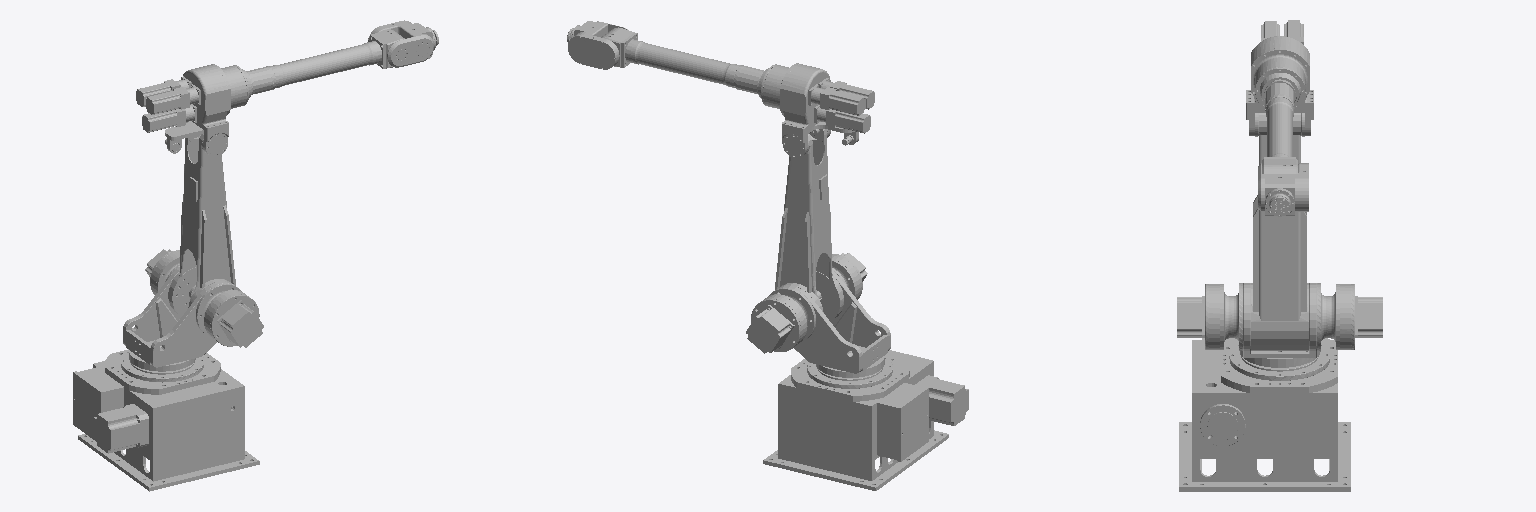
robot.urdf — abb:
<?xml version="1.0"?>
<robot name="abb">
        <link name="link1">
        <visual>
            <origin xyz="-0.047 0.0158 -0.096" rpy="-1.5707963 0 -1.5707963" />
            <geometry>
                <mesh filename="package://abb_description/meshes/link1.STL" />
            </geometry>
            <material name="gray">
                <color rgba="0.75 0.75 0.75 1"/>
            </material>
        </visual>
        <collision>
            <origin xyz="-0.047 0.0158 -0.096" rpy="-1.5707963 0 -1.5707963" />
            <geometry>
                <mesh filename="package://abb_description/meshes/link1.STL" />
            </geometry>
        </collision>
    </link>

    <joint name="joint1" type="revolute">
        <origin xyz="0 0 0.365" rpy="0 0 0"/>
        <axis xyz="0 0 1"/>
        <limit lower="-3.1415926" upper="3.1415926" effort="100" velocity="0.4" />
        <parent link="link1"/>
        <child link="link2"/>
    </joint>


    <link name="link2">
        <visual>
            <origin xyz="0 0 -0.028" rpy="0 0 -1.5707963" />
            <geometry>
                <mesh filename="package://abb_description/meshes/link2.STL" />
            </geometry>
            <material name="gray">
                <color rgba="0.75 0.75 0.75 1"/>
            </material>
        </visual>
        <collision>
            <origin xyz="0 0 -0.028" rpy="0 0 -1.5707963" />
            <geometry>
                <mesh filename="package://abb_description/meshes/link2.STL" />
            </geometry>
        </collision>
    </link>

    <joint name="joint2" type="revolute">
        <origin xyz="0.181 0 0.201" rpy="0 0 0"/>
        <axis xyz="0 1 0"/>
        <limit lower="-1.5707963" upper="1.5707963" effort="100" velocity="0.4" />
        <parent link="link2"/>
        <child link="link3"/>
    </joint>

    <link name="link3">
        <visual>
            <origin xyz="0.104 0.065 -0.0136" rpy="-1.5707963 0.0355 3.1415926" />
            <geometry>
                <mesh filename="package://abb_description/meshes/link3.STL" />
            </geometry>
            <material name="gray">
                <color rgba="0.75 0.75 0.75 1"/>
            </material>
        </visual>
        <collision>
            <origin xyz="0 0 0.26" rpy="0 0 0" />
            <geometry>
                <box size="0.1 0.08 0.7"/>
                <!--<mesh filename="package://abb_description/meshes/link3.STL" />-->
            </geometry>
        </collision>
    </link>

    <joint name="joint3" type="revolute">
        <origin xyz="0 0 0.665" rpy="0 0 0"/>
        <axis xyz="0 1 0"/>
        <limit lower="-1.5707963" upper="1.5707963" effort="100" velocity="0.4" />
        <parent link="link3"/>
        <child link="link4"/>
    </joint>


    <link name="link4">
        <visual>
            <origin xyz="-0.184 -0.076 0.065" rpy="3.1415926 0 -1.5707963" />
            <geometry>
                <mesh filename="package://abb_description/meshes/link4.STL" />
            </geometry>
            <material name="gray">
                <color rgba="0.75 0.75 0.75 1"/>
            </material>
        </visual>
        <collision>
            <origin xyz="-0.184 -0.076 0.065" rpy="3.1415926 0 -1.5707963" />
            <geometry>
                <mesh filename="package://abb_description/meshes/link4.STL" />
            </geometry>
        </collision>
    </link>

    <joint name="joint4" type="revolute">
        <origin xyz="0.172 0 0.17" rpy="0 0 0"/>
        <axis xyz="1 0 0"/>
        <limit lower="-1.5707963" upper="1.5707963" effort="100" velocity="0.4" />
        <parent link="link4"/>
        <child link="link5"/>
    </joint>

    <link name="link5">
        <visual>
          <origin xyz="-0.038 0 0" rpy="0 1.5707963 0" />
            <geometry>
                <mesh filename="package://abb_description/meshes/link5.STL" />
            </geometry>
            <material name="gray">
                <color rgba="0.75 0.75 0.75 1"/>
            </material>
        </visual>
        <collision>
          <origin xyz="-0.038 0 0" rpy="0 1.5707963 0" />
            <geometry>
                <mesh filename="package://abb_description/meshes/link5.STL" />
            </geometry>
        </collision>
    </link>


    <joint name="joint5" type="revolute">
        <origin xyz="0.63 0 0" rpy="0 0 0"/>
        <axis xyz="0 1 0"/>
        <limit lower="-1.7" upper="1.7" effort="100" velocity="0.4" />
        <parent link="link5"/>
        <child link="link6"/>
    </joint>


    <link name="link6">
        <visual>
          <origin xyz="0.09 -0.068 0" rpy="1.5707963 0 3.1415926" />
            <geometry>
                <mesh filename="package://abb_description/meshes/link6.STL" />
            </geometry>
            <material name="gray">
                <color rgba="0.75 0.75 0.75 1"/>
            </material>
        </visual>
        <collision>
          <origin xyz="0.09 -0.068 0" rpy="1.5707963 0 3.1415926" />
            <geometry>
                <mesh filename="package://abb_description/meshes/link6.STL" />
            </geometry>
        </collision>
    </link>

    <joint name="joint6" type="revolute">
        <origin xyz="0.18 0 0" rpy="0 0 0"/>
        <axis xyz="1 0 0"/>
        <limit lower="-3.1415926" upper="3.1415926" effort="100" velocity="0.4" />
        <parent link="link6"/>
        <child link="link7"/>
    </joint>

    <link name="link7">
        <visual>
            <origin xyz="-0.07 0 0" rpy="0 1.5707963 0" />
            <geometry>
                <mesh filename="package://abb_description/meshes/link7.STL" />
            </geometry>
            <material name="gray">
                <color rgba="0.75 0.75 0.75 1"/>
            </material>
        </visual>
        <collision>
          <origin xyz="0 0 -0.07" rpy="0 0 0" />
            <geometry>
                <mesh filename="package://abb_description/meshes/link7.STL" />
            </geometry>
        </collision>
    </link>



<!--
    <link name="kinect_link">
        <visual>
            <origin xyz="0 0.016  0" rpy="-1.5708 0 3.1415926"/>
            <geometry>
                <mesh filename="package://abb_description/meshes/kinect.dae" />
            </geometry>
        </visual>
    </link>

    <joint name="kinect_joint" type="fixed">
        <origin xyz="0.3 0.4 0.3" rpy="-1.83255 0 3.1415926"/>
        <parent link="link1"/>
        <child link="kinect_link"/>
    </joint>
-->

</robot>

--- Facts derived from the render (not from the file) ---
Views: 3 orthographic renders of the robot side by side, from view 1: azimuth 30°, elevation 25°; view 2: azimuth 150°, elevation 25°; view 3: azimuth 270°, elevation 25°.
Robot: abb — 7 links, 6 joints (6 revolute); root link link1; default pose: every joint at zero.
Links seen in each view (by area): view 1: link1, link2, link3, link4, link5, link6; view 2: link1, link2, link3, link4, link5, link6; view 3: link1, link2, link3, link4, link5, link6.
Link boxes in pixels (left/top/right/bottom): link1: left=73, top=349, right=259, bottom=491; link2: left=123, top=249, right=263, bottom=371; link3: left=168, top=122, right=235, bottom=315; link4: left=136, top=64, right=251, bottom=156; link5: left=246, top=29, right=406, bottom=94; link6: left=368, top=20, right=435, bottom=67; link1: left=763, top=350, right=968, bottom=490; link2: left=746, top=253, right=890, bottom=377; link3: left=775, top=129, right=843, bottom=321; link4: left=758, top=63, right=874, bottom=157; link5: left=601, top=27, right=763, bottom=94; link6: left=568, top=21, right=627, bottom=69; link1: left=1179, top=338, right=1350, bottom=491; link2: left=1177, top=283, right=1382, bottom=367; link3: left=1251, top=113, right=1308, bottom=350; link4: left=1246, top=20, right=1313, bottom=135; link5: left=1262, top=80, right=1297, bottom=173; link6: left=1258, top=163, right=1308, bottom=216.
Bounding box of the posed robot: 1.52 × 0.631 × 1.5 m (x, y, z).
Meshes: 7 distinct files referenced, 7 mesh visuals loaded (7 binary STL).